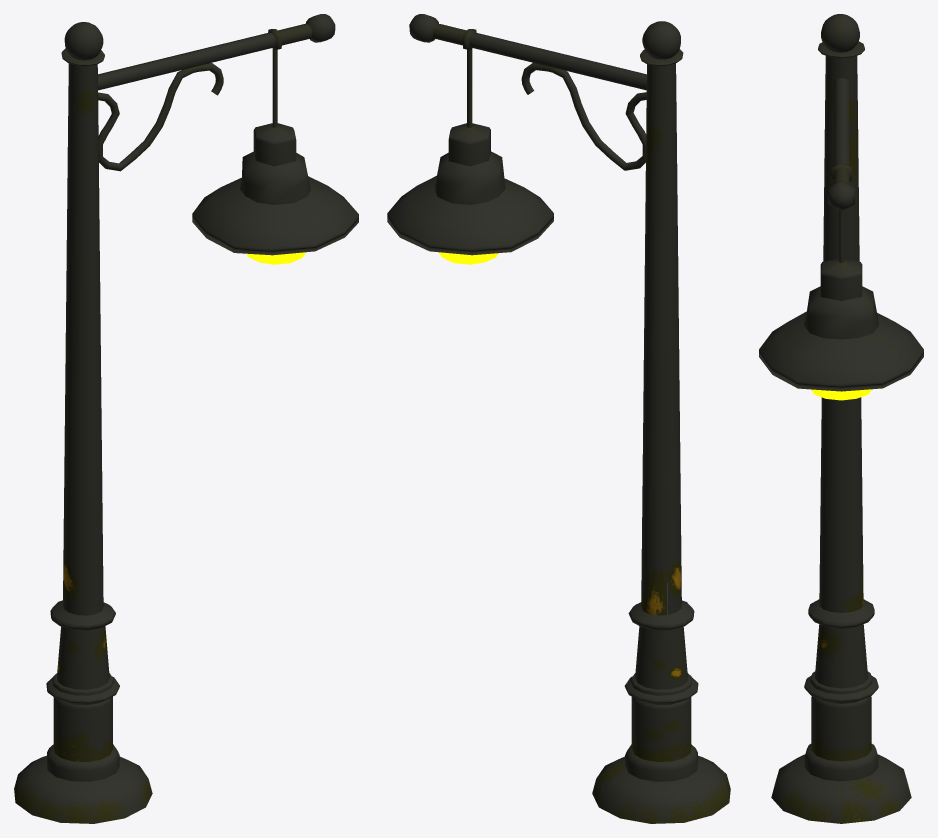
Rendered from farolaconchadetumadre 1.fbx.
3 renders of one model, left to right at view 1: azimuth 30°, elevation 25°; view 2: azimuth 150°, elevation 25°; view 3: azimuth 270°, elevation 25°, orthographic.
Visible parts, largest first — view 1: Farola; view 2: Farola; view 3: Farola.
Part boxes in pixels (box(x1,y1,x2,y2)): Farola: box(14, 14, 358, 823); Farola: box(387, 14, 730, 823); Farola: box(759, 14, 923, 823).
Bounding box in the file's own units: 895 × 2063 × 396.
2 materials, 1 textured.
